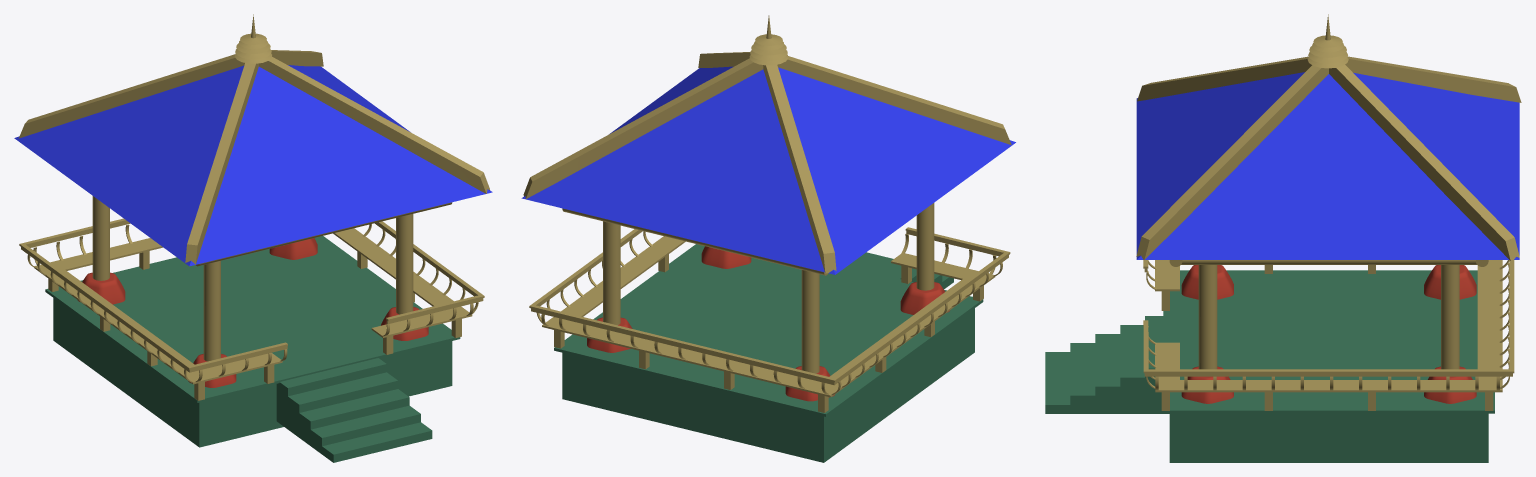
Rendered from 傻逼亭子.fbx.
3 views of the same model, side by side, from view 1: azimuth 30°, elevation 25°; view 2: azimuth 150°, elevation 25°; view 3: azimuth 270°, elevation 25° (orthographic). The views are drawn at different scales.
Parts seen in each view (by area): view 1: dun06; view 2: dun06; view 3: dun06.
Boxes of the visible parts, x1,y1,x2,y2 form: dun06: (14,14,492,462); dun06: (521,15,1015,462); dun06: (1045,14,1521,462).
Size of the model in its own units: 923 by 1008 by 1140.
